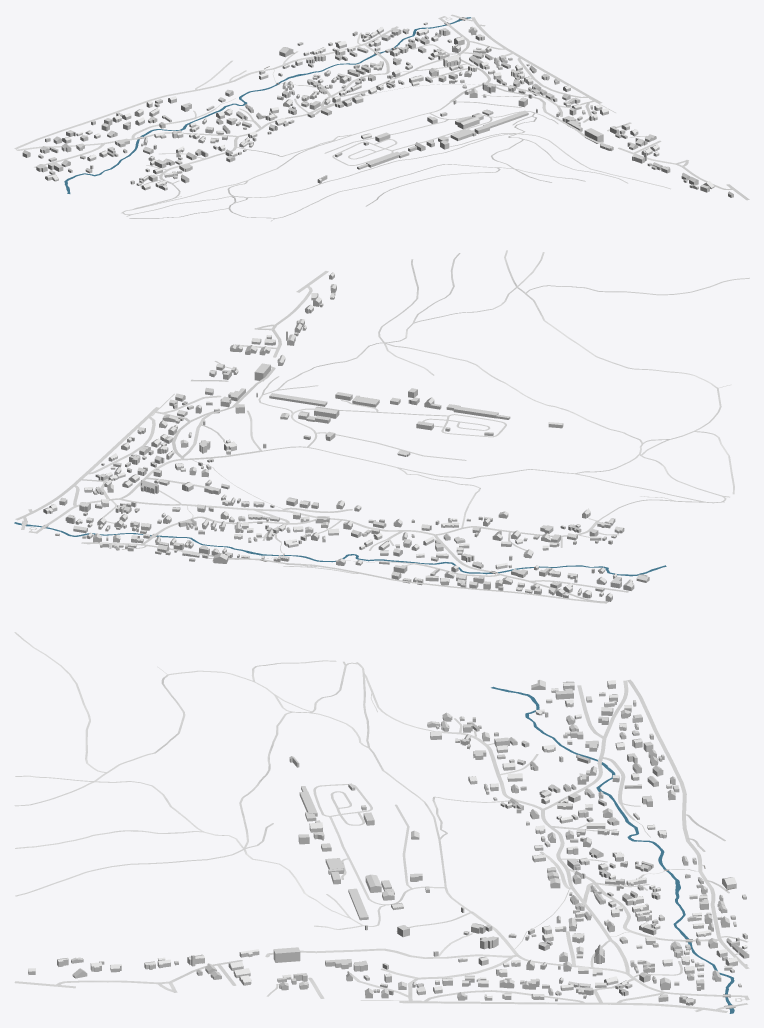
The model's file is objekty.glb.
3 renders of one model, top to bottom at view 1: azimuth 30°, elevation 25°; view 2: azimuth 150°, elevation 25°; view 3: azimuth 270°, elevation 25°, orthographic. The views are drawn at different scales.
Visible parts, largest first — view 1: Budovy_08_02, Cesty_08_02, Okna_Dvere_08_02, Voda_08_02; view 2: Budovy_08_02, Cesty_08_02, Okna_Dvere_08_02, Voda_08_02; view 3: Budovy_08_02, Cesty_08_02, Okna_Dvere_08_02, Voda_08_02.
Boxes of the visible parts, x1,y1,x2,y2 form: Budovy_08_02: (22,22,733,197); Cesty_08_02: (14,14,749,221); Okna_Dvere_08_02: (23,30,733,196); Voda_08_02: (64,17,470,193); Budovy_08_02: (43,272,649,601); Cesty_08_02: (15,250,749,603); Okna_Dvere_08_02: (43,276,647,600); Voda_08_02: (14,522,666,576); Budovy_08_02: (28,680,749,1005); Cesty_08_02: (14,632,749,1012); Okna_Dvere_08_02: (29,683,748,1004); Voda_08_02: (491,686,734,1013).
Size of the model in its own units: 1012 by 213 by 1007.
